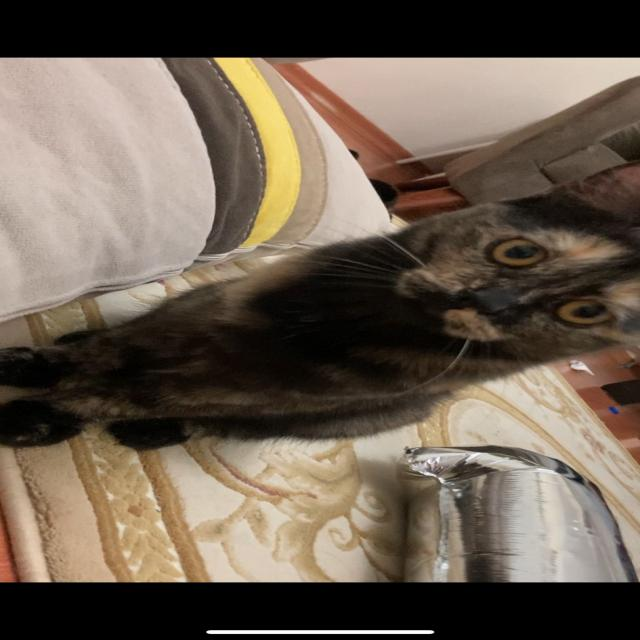authorized: (1, 159, 638, 451)
